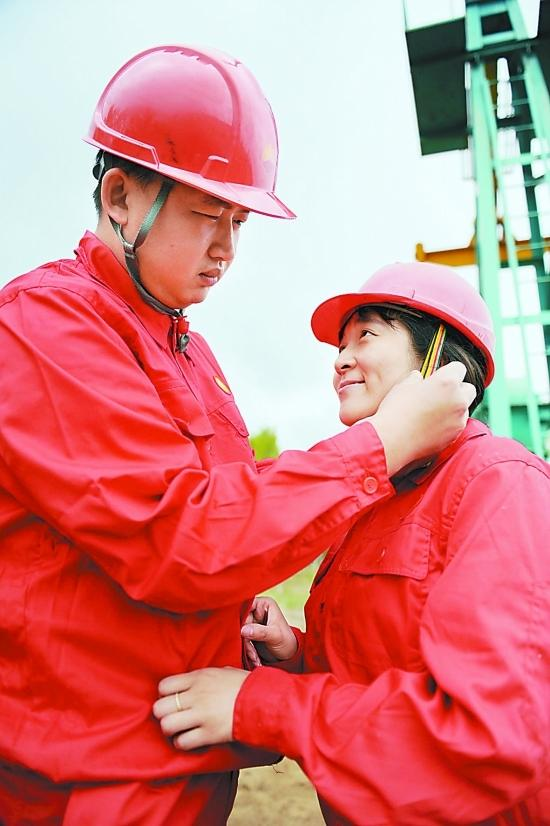helmet: (70, 38, 304, 224), (306, 251, 501, 347)
wear: (0, 332, 259, 821), (282, 447, 550, 815)
